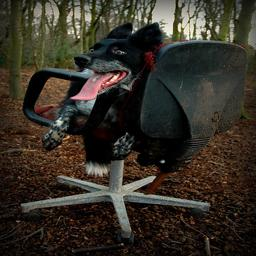chair: (46, 128, 256, 256)
dog: (52, 68, 213, 256)
